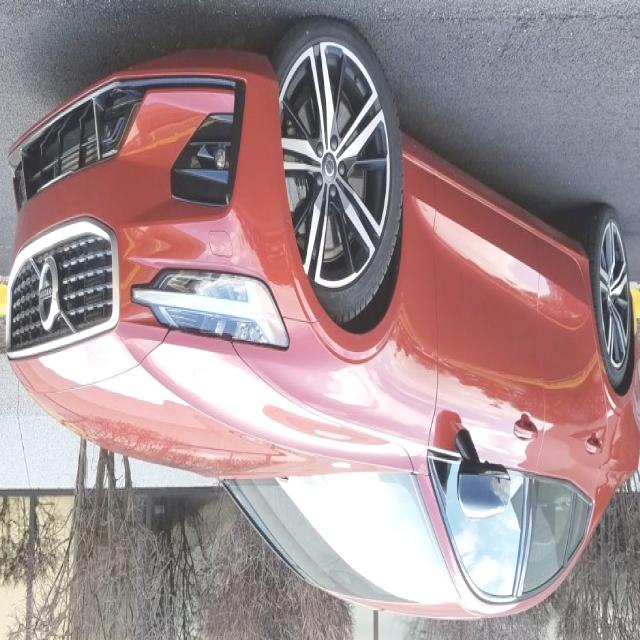maroon: (15, 75, 640, 640)
